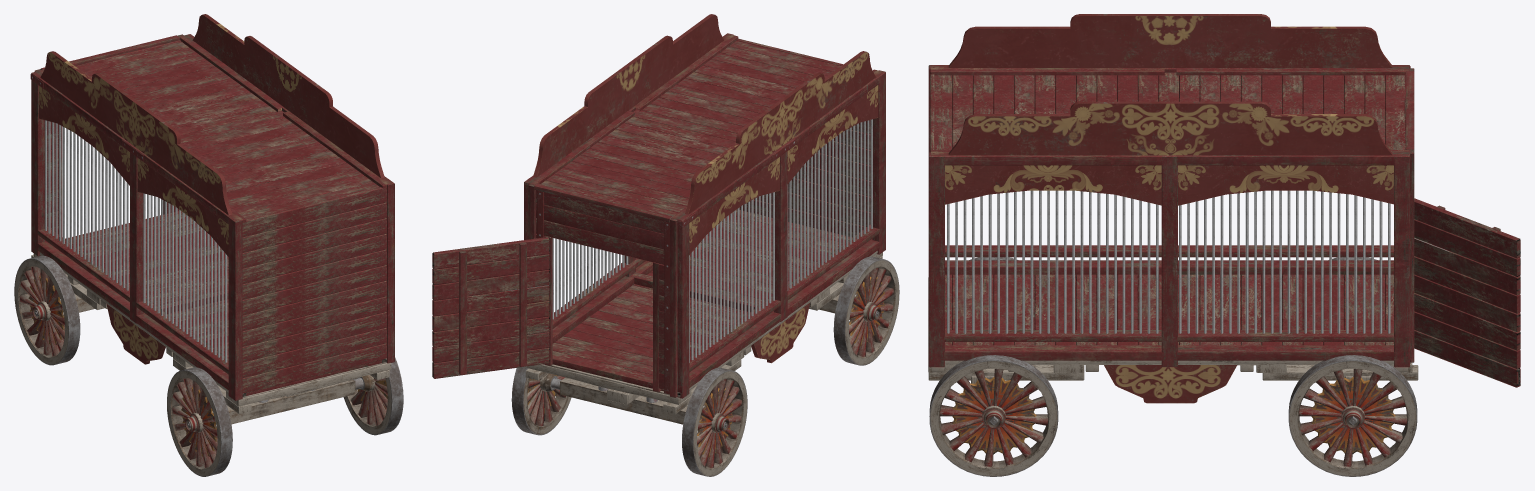
File: SM_AnimalCart_B.fbx
The picture shows the model from 3 angles, left to right: view 1: azimuth 30°, elevation 25°; view 2: azimuth 150°, elevation 25°; view 3: azimuth 270°, elevation 25°; orthographic projection. The views are drawn at different scales.
Parts seen in each view (by area): view 1: SM_AnimalCart_B_LOD0; view 2: SM_AnimalCart_B_LOD0; view 3: SM_AnimalCart_B_LOD0.
Part boxes in pixels (x1=…): SM_AnimalCart_B_LOD0: x1=14, y1=14, x2=403, y2=476; SM_AnimalCart_B_LOD0: x1=432, y1=14, x2=899, y2=476; SM_AnimalCart_B_LOD0: x1=928, y1=14, x2=1520, y2=476.
Size of the model in its own units: 306 by 590 by 404.
Materials: 3 (3 with a texture image).
